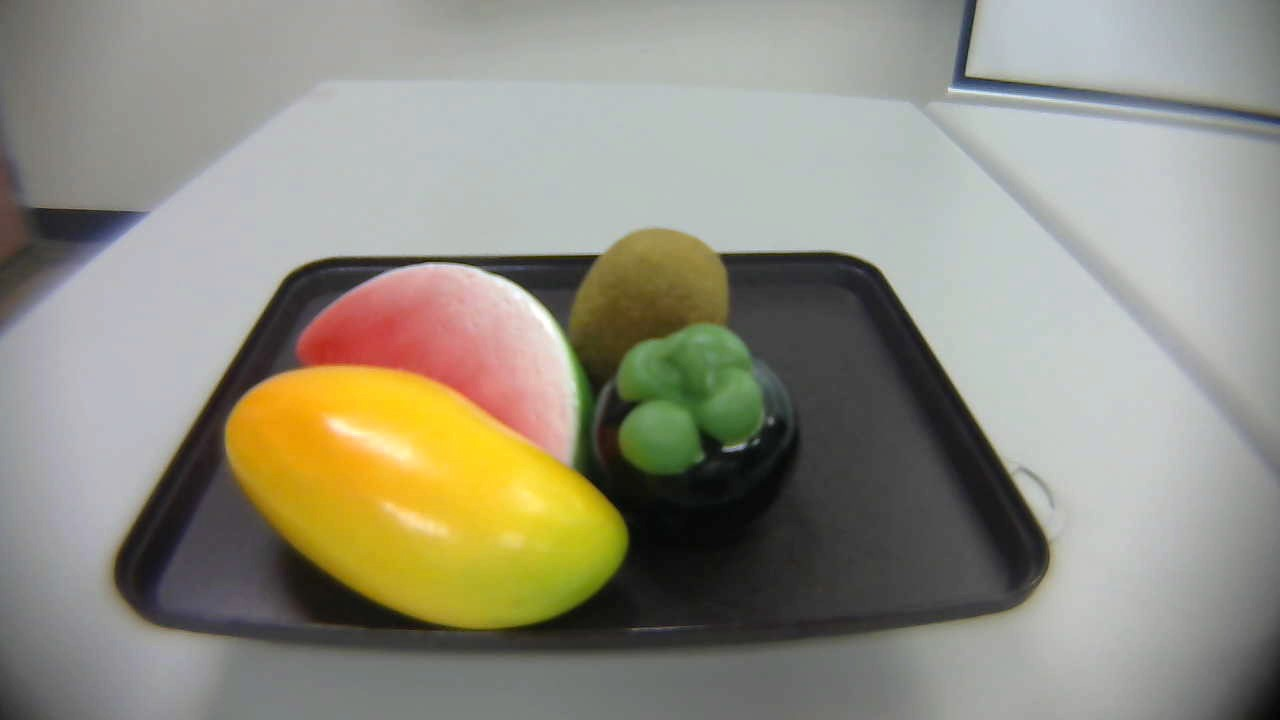kiwi fruit: (560, 219, 743, 375)
mangosteen: (571, 324, 812, 540)
water melon: (290, 249, 593, 471)
yellow mango: (203, 356, 640, 646)
